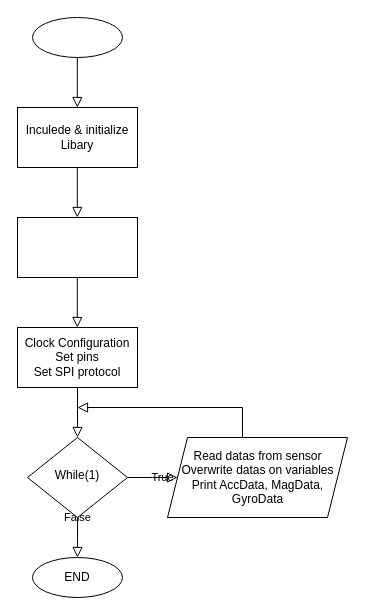
The diagram is 365 pixels wide and 615 high, and some of its shapes have lost their labels. Each missing label, with the centre of its shape:
Identify Variables AccData, GyroData, MagData as a array: point (77, 247)
START: point (77, 37)
